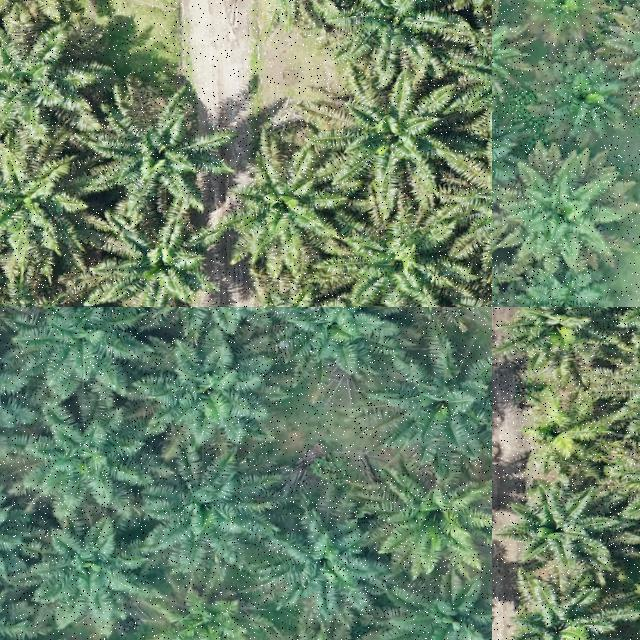Ganoderma: (514, 405, 600, 459)
